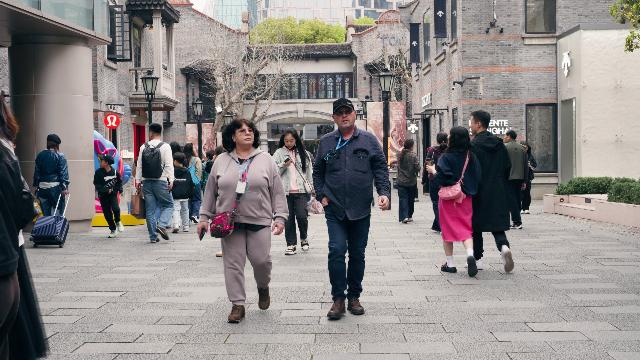person: (195, 117, 303, 323), (312, 98, 391, 320), (0, 88, 49, 360), (426, 126, 483, 277), (466, 110, 515, 274), (272, 127, 316, 255), (134, 123, 175, 244), (32, 134, 71, 217), (421, 131, 450, 234), (502, 129, 529, 230), (93, 154, 125, 238), (395, 138, 421, 224), (169, 152, 195, 233), (182, 142, 202, 225)
